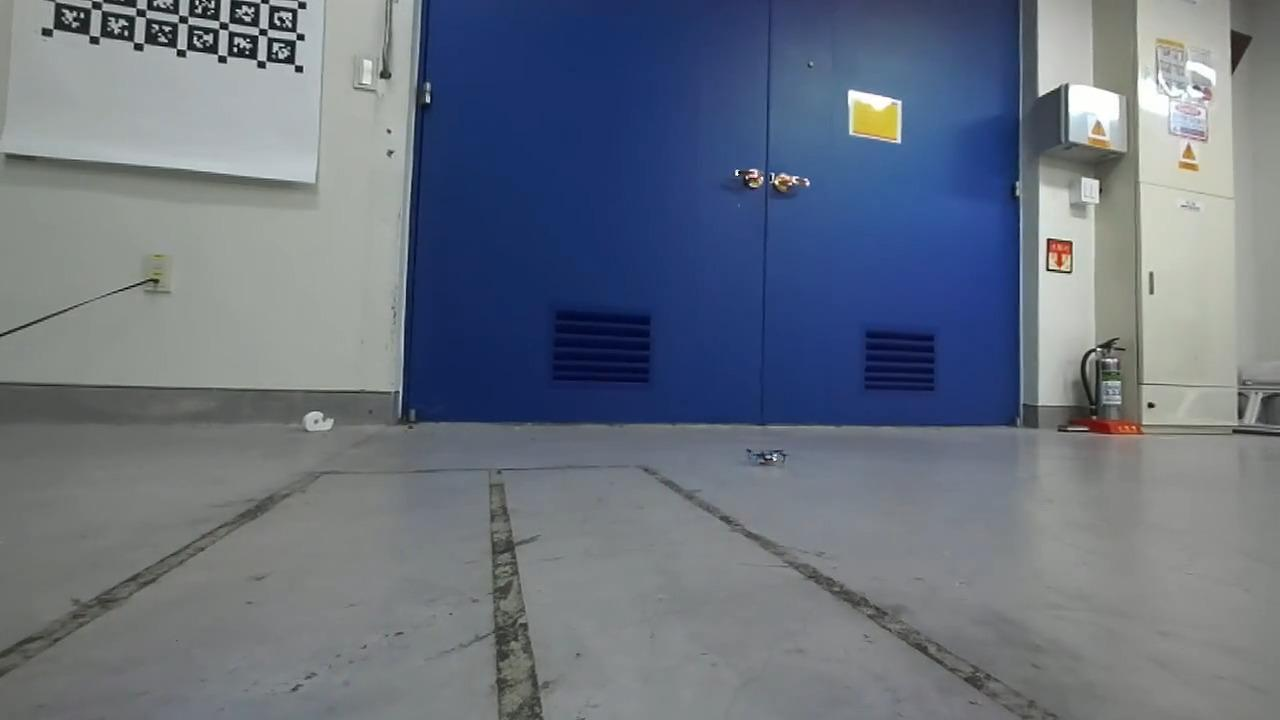crazyflie: (737, 440, 796, 471)
